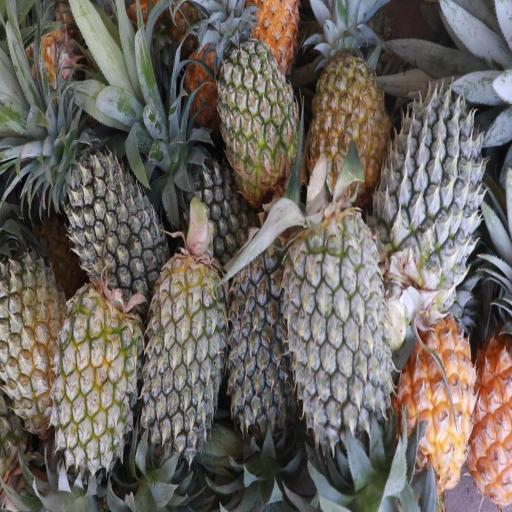------------------------------: (60, 289, 139, 466), (218, 44, 302, 198), (0, 253, 68, 431)
Pineapple - v8 v1: (399, 311, 478, 503), (304, 50, 386, 196)
